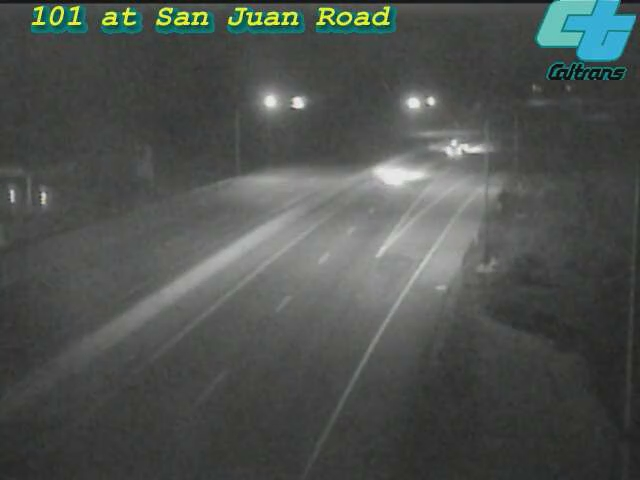vehicle: (359, 133, 439, 213), (435, 120, 485, 170)
